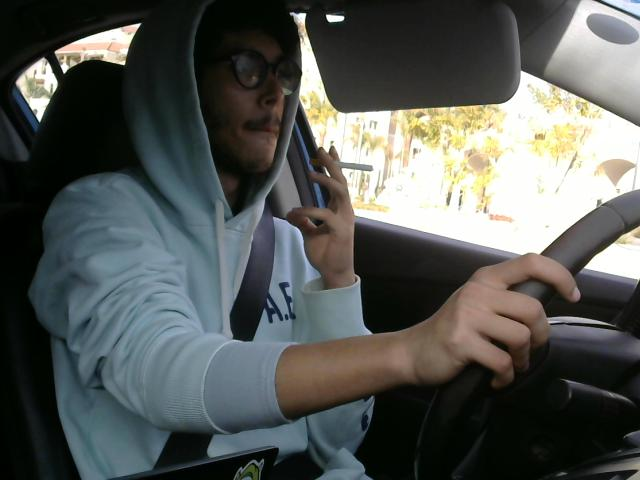Smoking: (304, 154, 380, 179)
